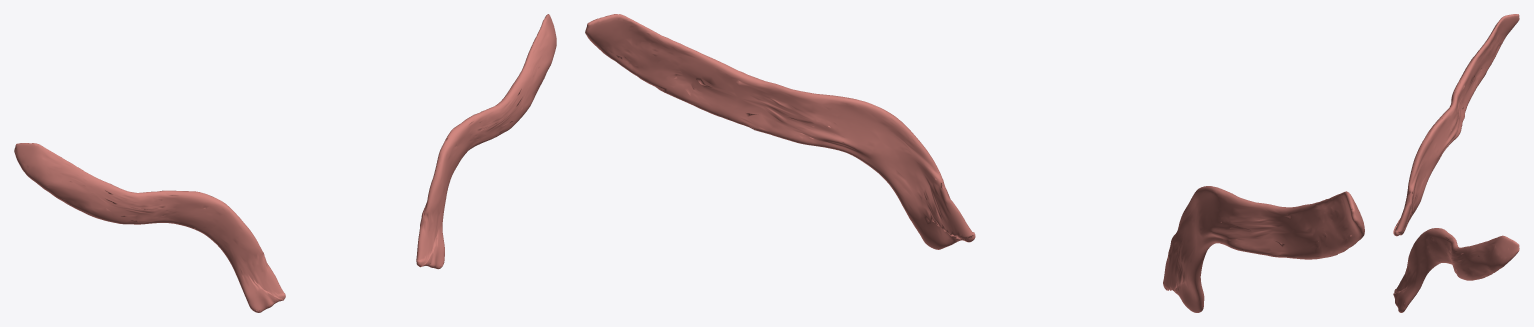
Rendered from zygomaticus_minor.glb.
3 views of the same model, side by side, from view 1: azimuth 30°, elevation 25°; view 2: azimuth 150°, elevation 25°; view 3: azimuth 270°, elevation 25° (orthographic). The views are drawn at different scales.
Parts seen in each view (by area): view 1: zygomaticus_minor_R, zygomaticus_minor_L; view 2: zygomaticus_minor_L, zygomaticus_minor_R; view 3: zygomaticus_minor_R, zygomaticus_minor_L.
Part boxes in pixels (x1,y1,x2,y2): zygomaticus_minor_R: (14, 143, 285, 312); zygomaticus_minor_L: (416, 14, 556, 269); zygomaticus_minor_L: (585, 14, 975, 249); zygomaticus_minor_R: (1163, 186, 1364, 312); zygomaticus_minor_R: (1393, 14, 1519, 236); zygomaticus_minor_L: (1393, 228, 1519, 312).
Size of the model in its own units: 0.1043 by 0.0309 by 0.024.
